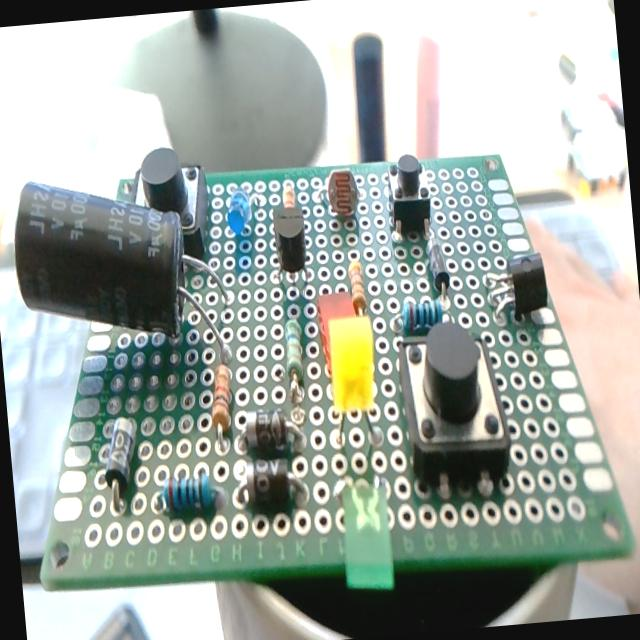Electrolytic capacitor: (10, 154, 229, 355)
cds: (322, 165, 360, 221)
diode: (98, 416, 144, 512), (232, 458, 308, 513), (237, 404, 305, 456), (424, 234, 452, 297)
led: (321, 312, 388, 454), (332, 467, 401, 603), (224, 186, 252, 235)
resistor: (156, 467, 224, 516), (207, 363, 236, 437), (396, 294, 446, 334), (282, 317, 307, 396), (347, 258, 368, 316)
switch: (393, 318, 515, 496), (132, 156, 214, 262), (382, 156, 433, 239)
transistor: (482, 250, 552, 324), (270, 181, 308, 273)
